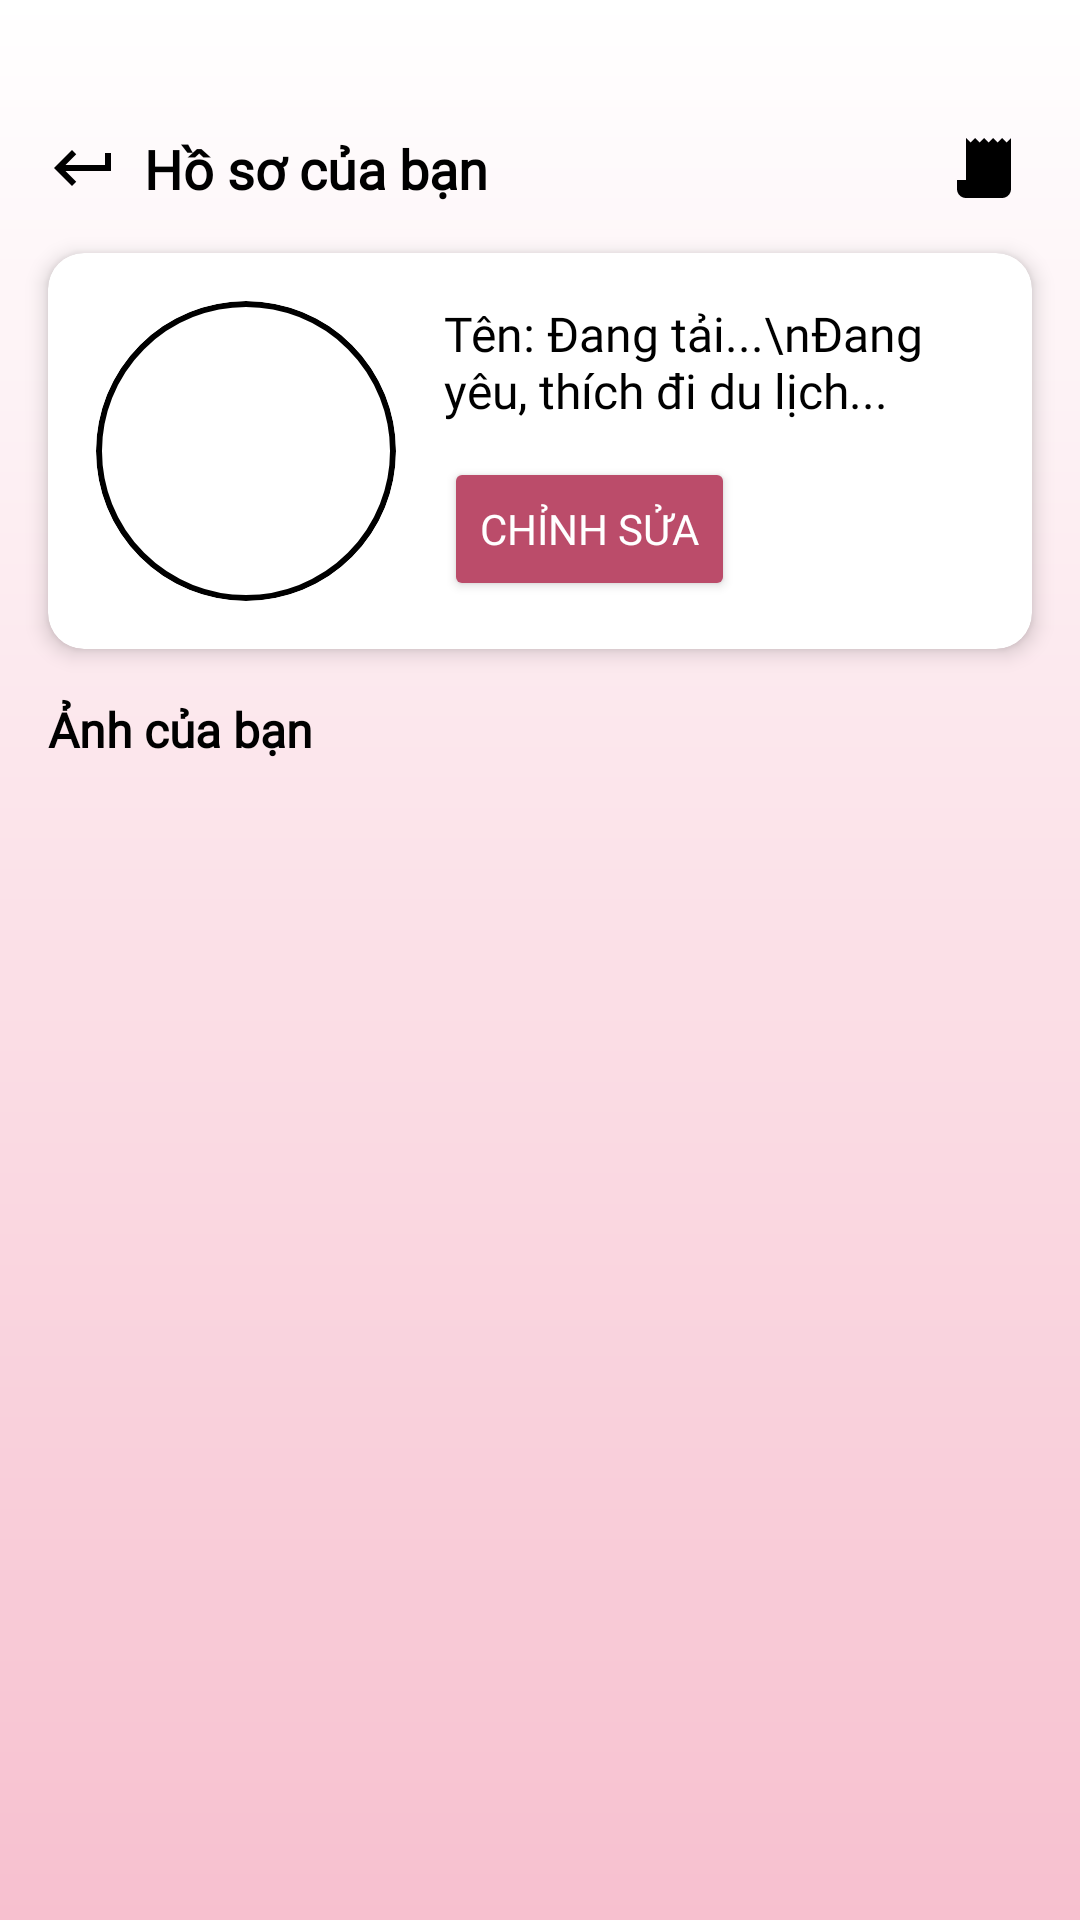

Icons on this 1080 x 1920 Android screen, each with the point to tap as [x,y]:
Back: [82,168]
